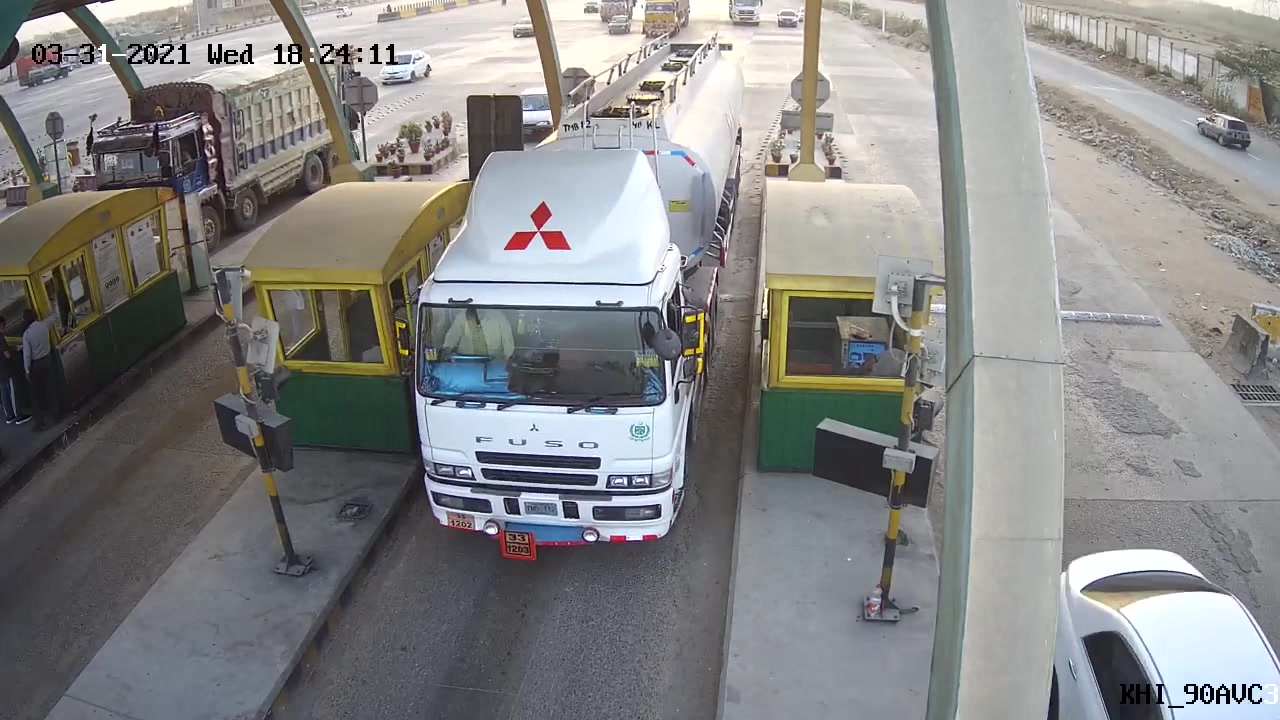F6: (403, 33, 758, 571)
